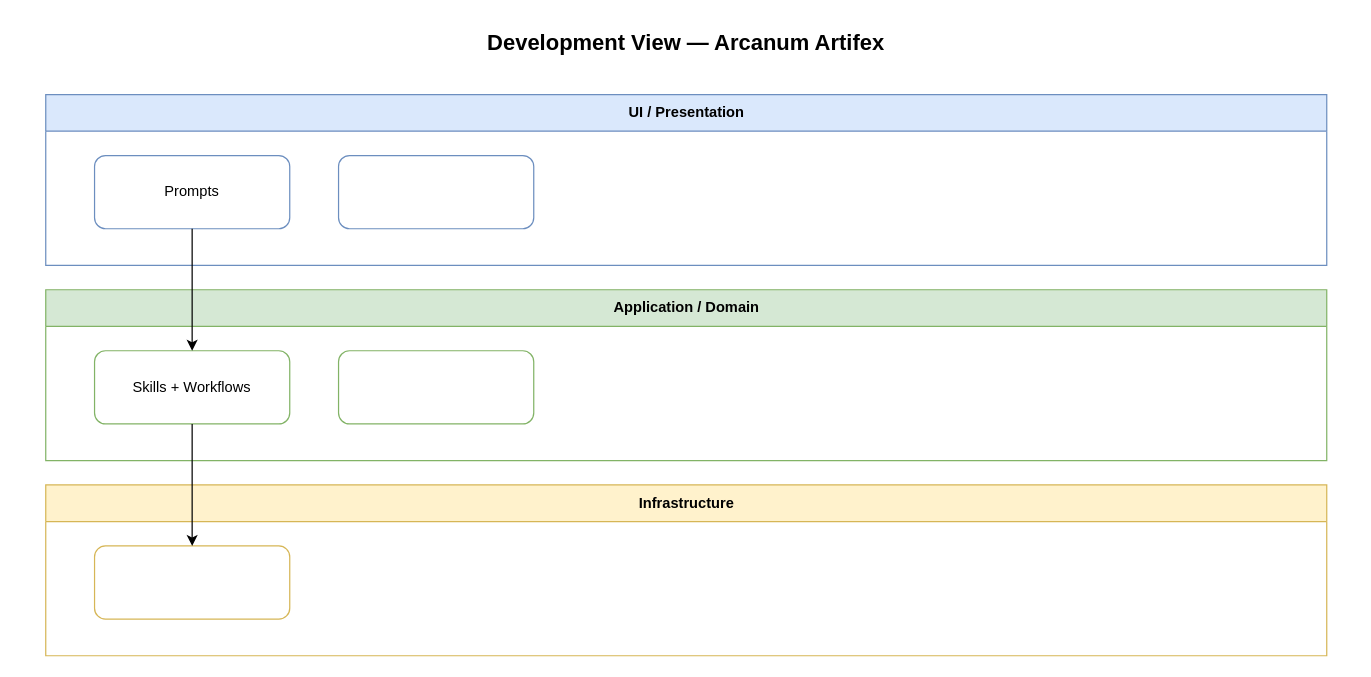
This 1371x677 diagram has some shape labels left out. The box of each missing label's shape, as (x1, y1, x2, y2) in pixels:
Agents + Templates: (337, 350, 534, 424)
Instructions: (337, 154, 534, 229)
Validation Scripts: (93, 545, 290, 619)
